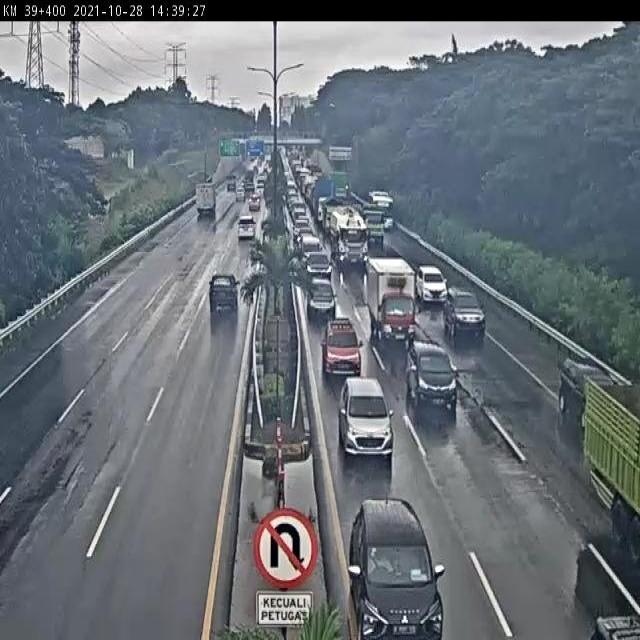big truck: (329, 205, 369, 267)
car: (342, 500, 442, 640), (335, 376, 395, 461), (558, 356, 618, 427), (404, 339, 457, 417), (444, 285, 486, 347), (321, 317, 361, 379), (306, 276, 338, 325), (207, 272, 239, 313), (415, 265, 448, 303), (305, 252, 332, 281), (300, 237, 321, 260), (237, 216, 255, 239), (229, 185, 249, 204)
small truck: (364, 256, 416, 344), (195, 183, 215, 213)
